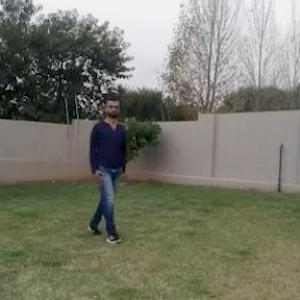follow: (91, 93, 125, 229)
